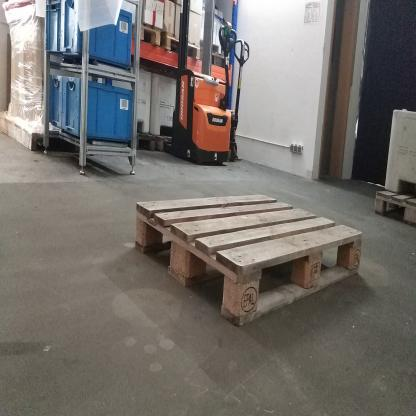BoxFace: (132, 191, 366, 332)
